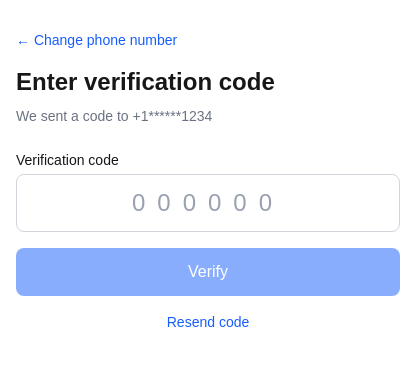
VerifyCodePage › resets cooldown timer after successful resend
This screenshot has width=417, height=365.
Click the button "Resend code" at (208, 322), box [167,312,249,332]
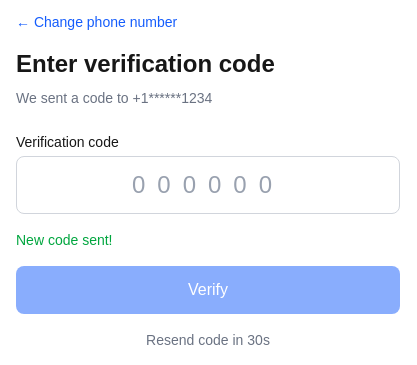
Expected: the text "New code sent!" is shown, [16,232,112,248]
Expected: the text "Resend code in 30s" is shown, [146,332,270,348]
